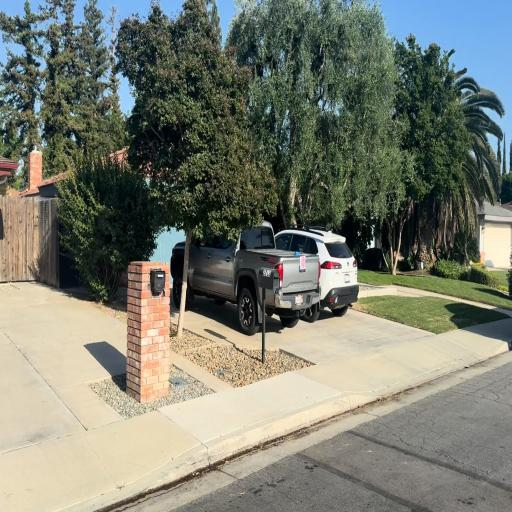bullseye: (300, 256, 306, 270)
